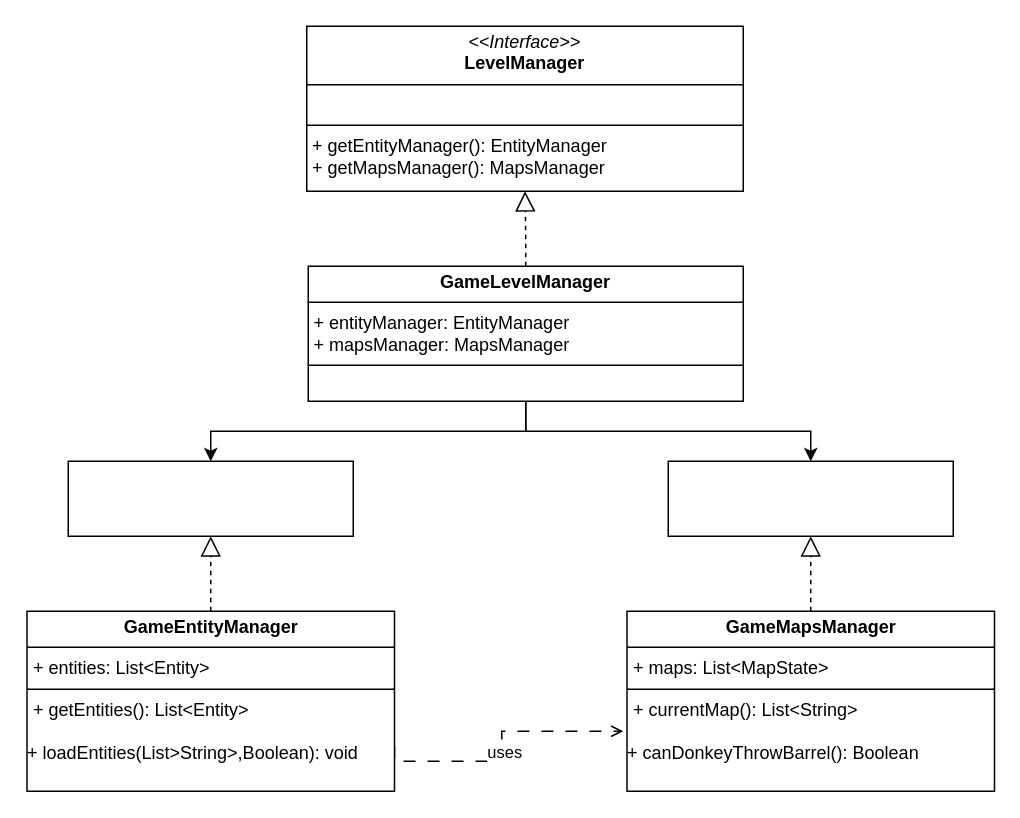
Image size: 1020x818. Some labels were removed from this diagram. Each missing label, with the box of its shape:
<<Interface>> EntityManager: (67, 460, 353, 536)
<<Interface>> MapsManager: (667, 460, 953, 536)
